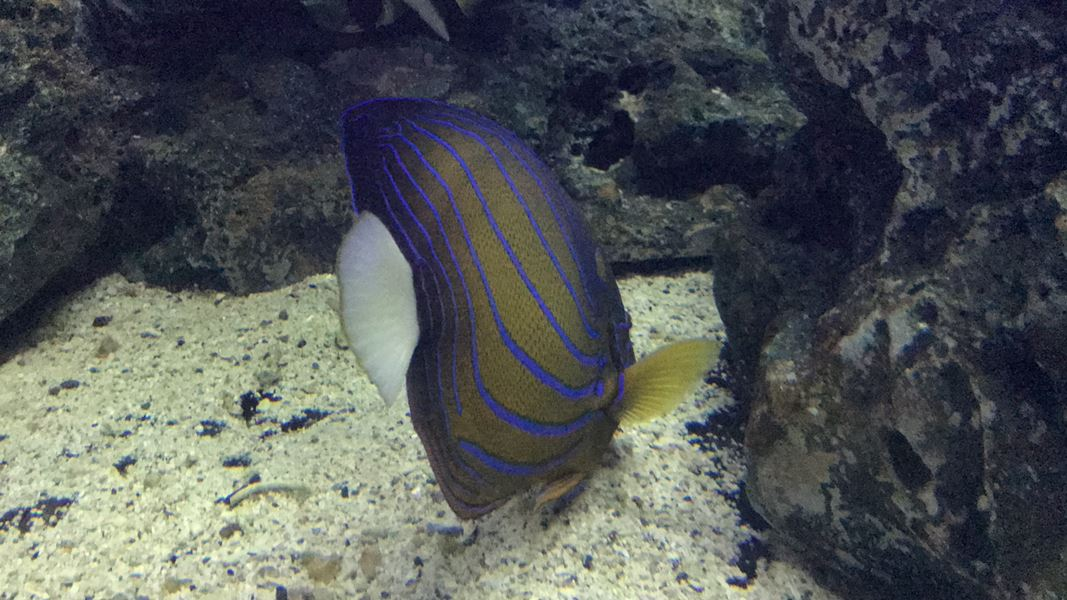Blue ring angelfish: (316, 66, 753, 575)
